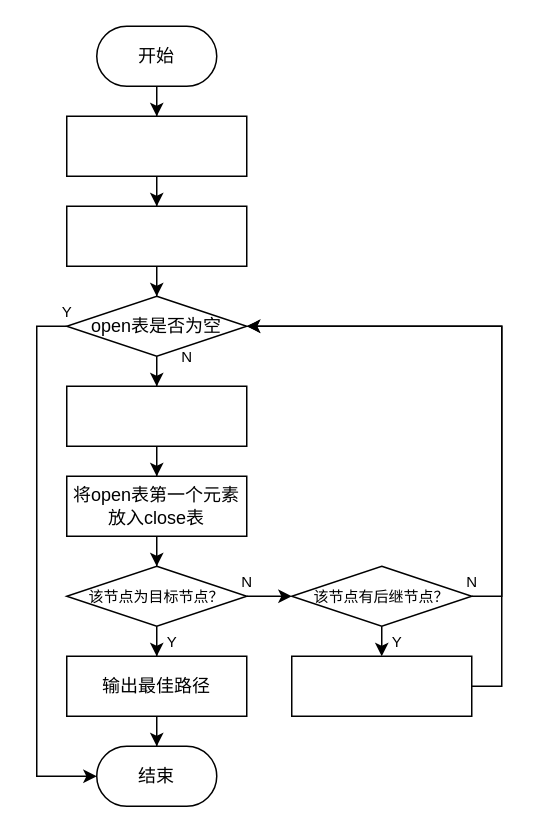
Some shapes in this 540 by 833 pixel diagram are drawn without their labels. The shapes that lost their labels are listed below. From the top down, each one's centre as x and y in pixels, then its label:
(x=156, y=145): 初始化open表 和close表
(x=156, y=235): 将初始状态放入 open表
(x=156, y=415): open表按启发值排序
(x=381, y=685): 将后继节点 加入open表
